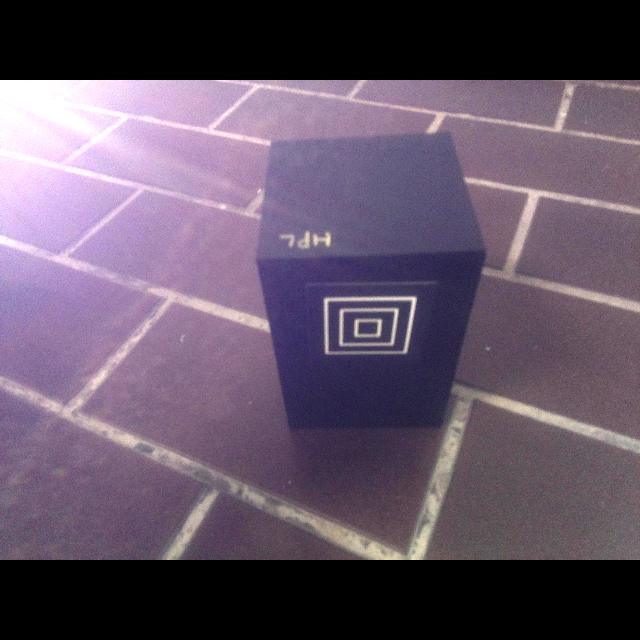BULLSEYE: (324, 296, 417, 355)
